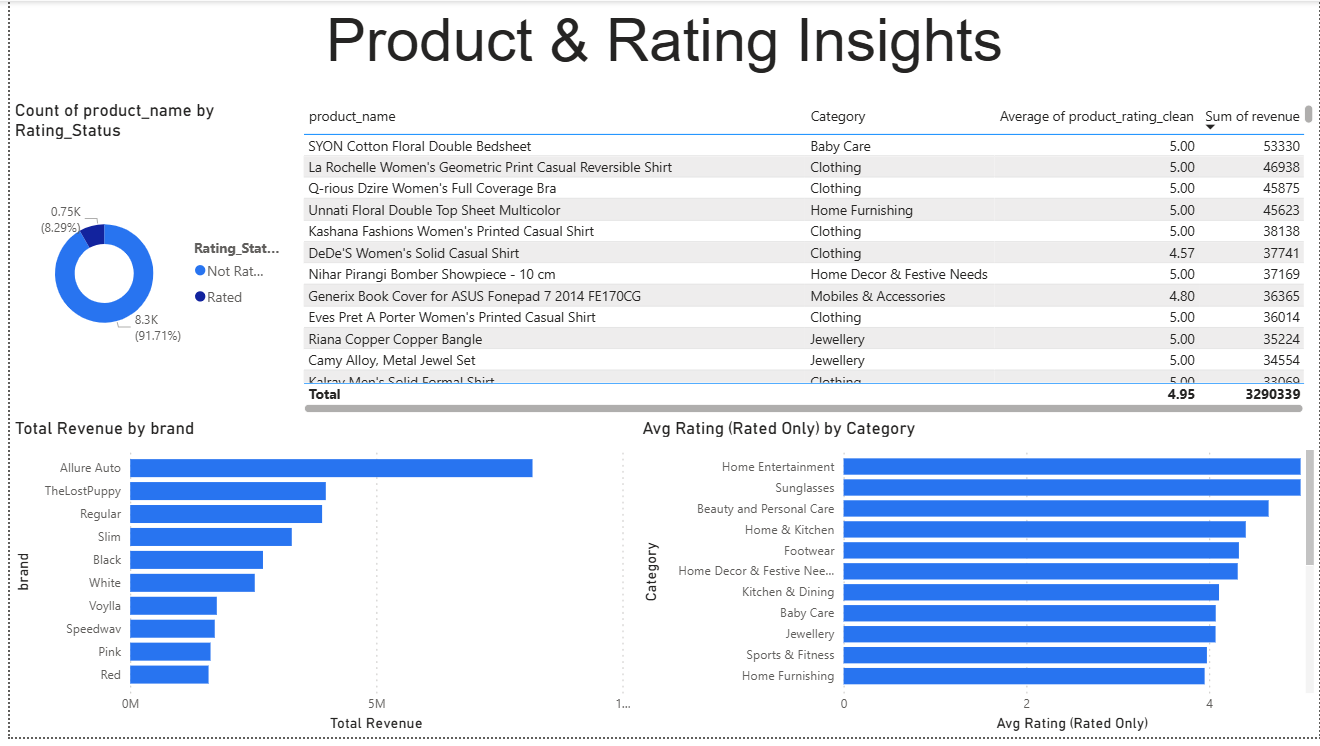

Layout of this report page (visuals, bound fields, positions):
{"tool":"powerbi","page":{"name":"Product & Rating Insights","canvas":[1280,720],"ordinal":3},"visuals":[{"type":"donutChart","fields":{"Category":["flipkart_cleaned.Rating_Status"],"Y":["Count(flipkart_cleaned.product_name)"]},"box":[0,96.1,271.7,301.9],"z":0},{"type":"clusteredBarChart","fields":{"Y":["flipkart_cleaned.Total Revenue"],"Category":["flipkart_cleaned.brand"]},"box":[0,407.5,613.4,312.9],"z":1000},{"type":"clusteredBarChart","fields":{"Category":["flipkart_cleaned.Category"],"Y":["flipkart_cleaned.Avg Rating (Rated Only)"]},"box":[613.4,407.5,666.9,312.9],"z":2000},{"type":"tableEx","fields":{"Values":["flipkart_cleaned.product_name","flipkart_cleaned.Category","Avg(flipkart_cleaned.product_rating_clean)","Sum(flipkart_cleaned.revenue)"]},"box":[281.3,96.1,999,311.5],"z":3000},{"type":"textbox","box":[0,0,1280.3,79.6],"z":3001}]}

Visuals, with their boxes in screenshot pixels (x1, y1, x2, y2), scaled from the page's 1280x720 canvas onto the 1320x746 screenshot:
donutChart - flipkart_cleaned.Rating_Status x Count(flipkart_cleaned.product_name): rect(0, 100, 280, 412)
clusteredBarChart - flipkart_cleaned.Total Revenue x flipkart_cleaned.brand: rect(0, 422, 633, 745)
clusteredBarChart - flipkart_cleaned.Category x flipkart_cleaned.Avg Rating (Rated Only): rect(633, 422, 1319, 745)
tableEx - flipkart_cleaned.product_name x flipkart_cleaned.Category: rect(290, 100, 1319, 422)
textbox: rect(0, 0, 1319, 82)
